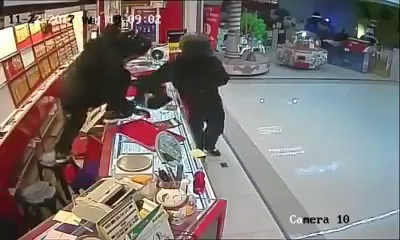helmet: (178, 26, 214, 62)
